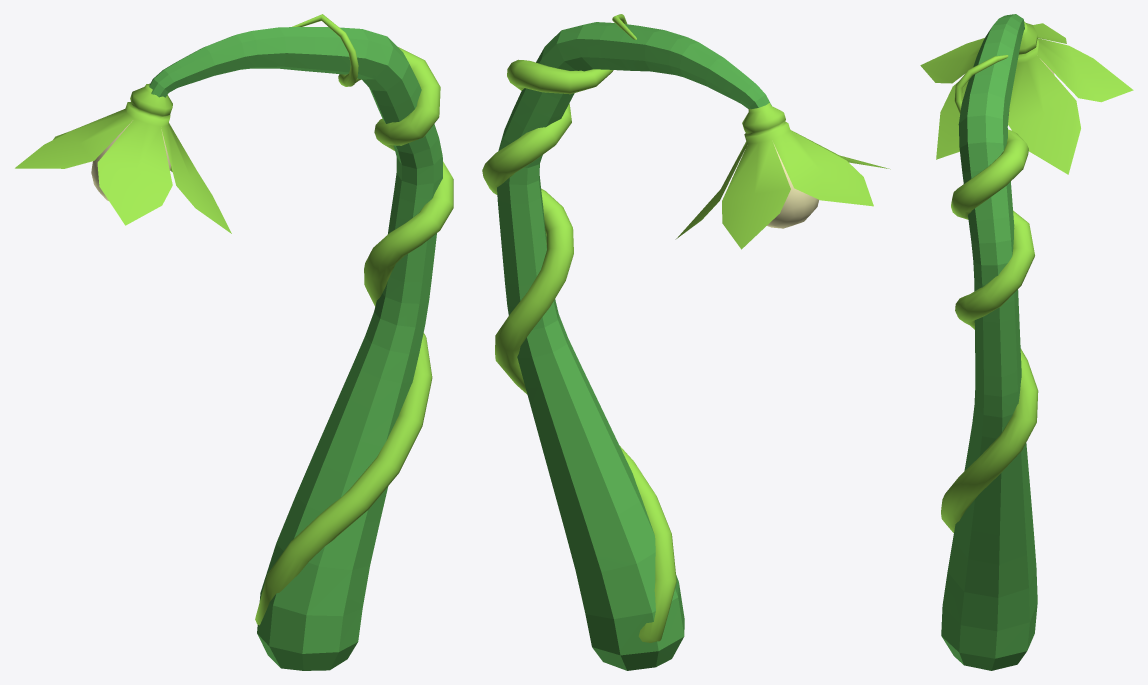
Rendered from Lamp2.glb.
3 views of the same model, side by side, from view 1: azimuth 30°, elevation 25°; view 2: azimuth 150°, elevation 25°; view 3: azimuth 270°, elevation 25° (orthographic). The views are drawn at different scales.
Visible parts, largest first — view 1: Vert, NurbsPath.004, Plane.010; view 2: Vert, NurbsPath.004, Plane.010, bulb; view 3: Vert, Plane.010, NurbsPath.004.
Part boxes in pixels (box(x1,y1,x2,y2)): Vert: box(149, 27, 442, 670); NurbsPath.004: box(255, 14, 453, 625); Plane.010: box(15, 83, 231, 233); Vert: box(497, 22, 771, 670); NurbsPath.004: box(482, 14, 676, 642); Plane.010: box(675, 103, 890, 249); bulb: box(767, 143, 818, 228); Vert: box(941, 14, 1037, 670); Plane.010: box(920, 21, 1133, 174); NurbsPath.004: box(941, 55, 1038, 532).
Bounding box in the file's own units: 0.7997 × 1.2 × 0.3778.
